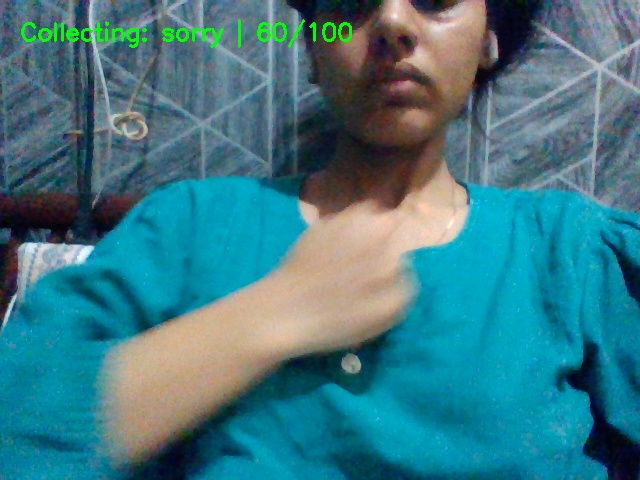sorry: (256, 185, 444, 393)
